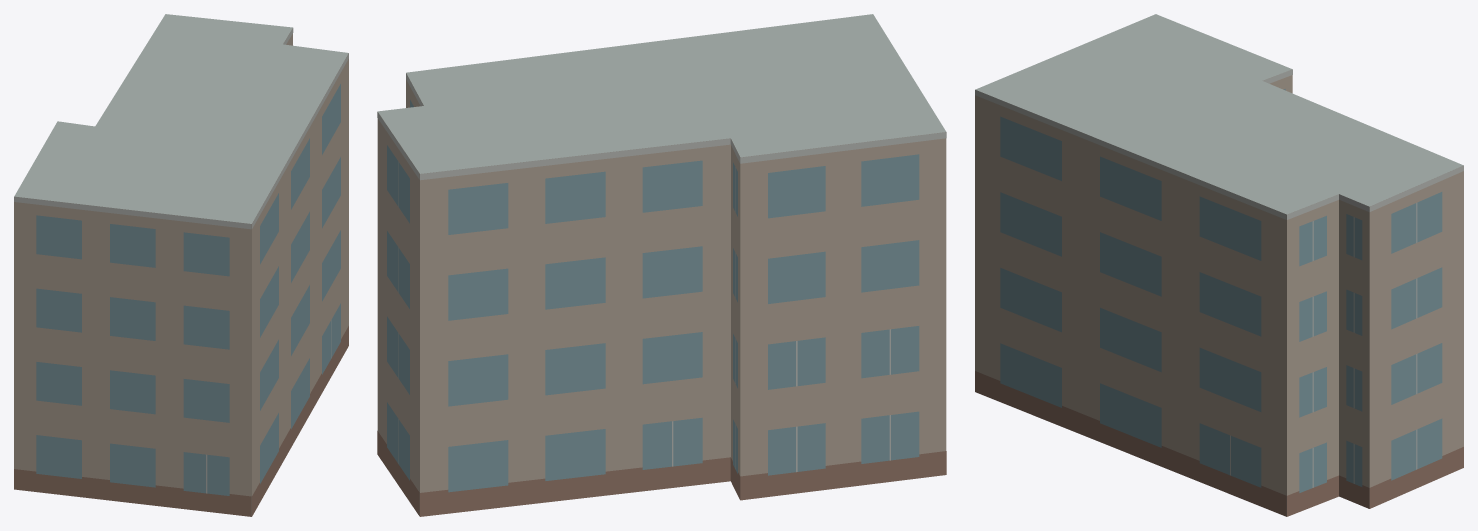
The model's file is survey-upis-32590188.glb.
The picture shows the model from 3 angles, left to right: view 1: azimuth 30°, elevation 25°; view 2: azimuth 150°, elevation 25°; view 3: azimuth 270°, elevation 25°; orthographic projection. The views are drawn at different scales.
Parts seen in each view (by area): view 1: survey-upis-32590188.tmp; view 2: survey-upis-32590188.tmp; view 3: survey-upis-32590188.tmp.
Part boxes in pixels (x1,y1,x2,y2): survey-upis-32590188.tmp: (14, 14, 348, 516); survey-upis-32590188.tmp: (377, 14, 946, 516); survey-upis-32590188.tmp: (975, 14, 1463, 516).
Bounding box in the file's own units: 18.79 × 13.2 × 19.35.
